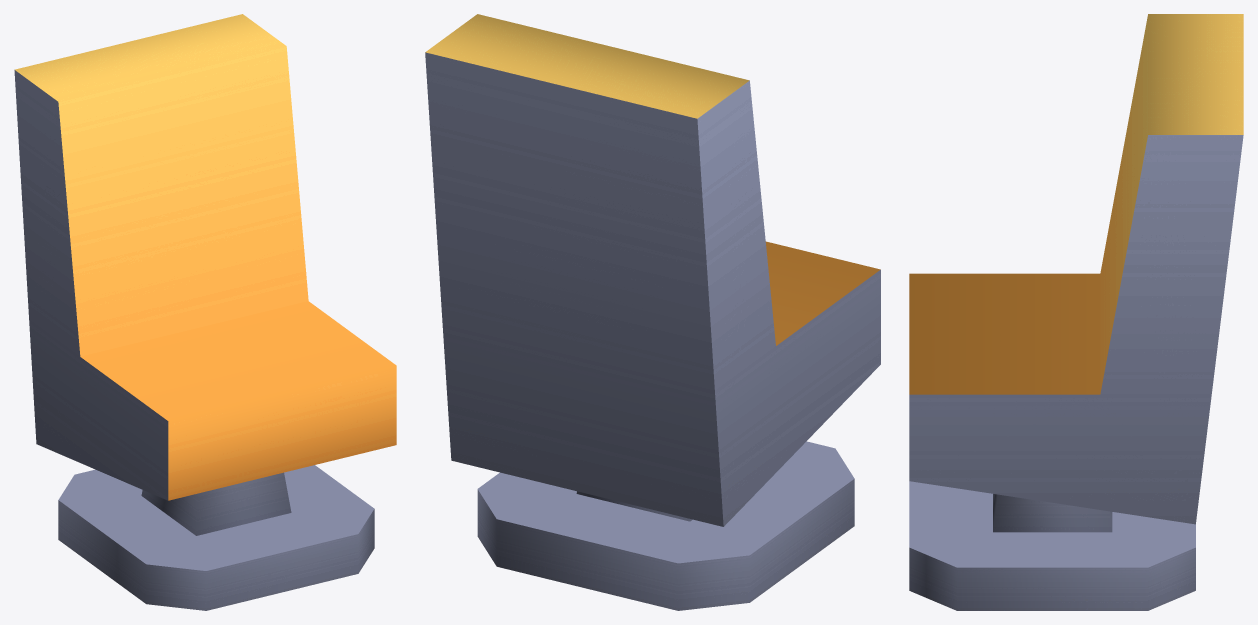
Rendered from chair.glb.
The picture shows the model from 3 angles, left to right: view 1: azimuth 30°, elevation 25°; view 2: azimuth 150°, elevation 25°; view 3: azimuth 270°, elevation 25°; orthographic projection. The views are drawn at different scales.
Parts seen in each view (by area): view 1: chair; view 2: chair; view 3: chair.
Boxes of the visible parts, x1,y1,x2,y2 form: chair: [14, 14, 396, 610]; chair: [425, 14, 880, 610]; chair: [909, 14, 1243, 610].
Bounding box in the file's own units: 0.3 × 0.55 × 0.35.
1 material, 1 textured.
